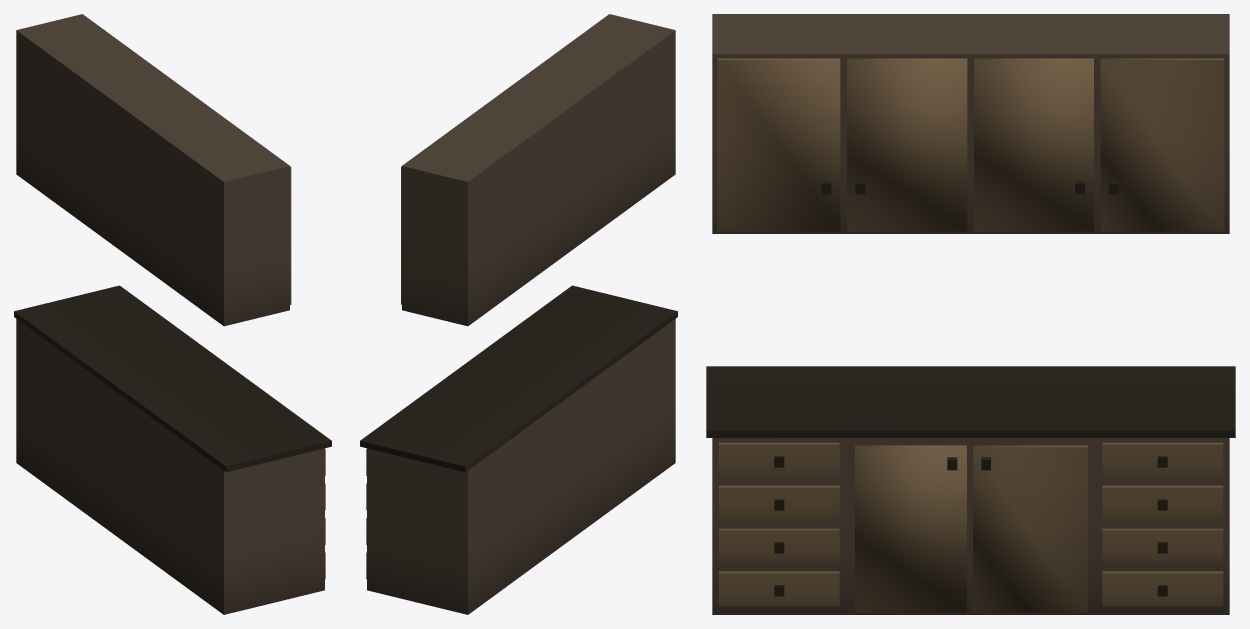
Rendered from SM_KitchenBar.fbx.
The picture shows the model from 3 angles, left to right: view 1: azimuth 30°, elevation 25°; view 2: azimuth 150°, elevation 25°; view 3: azimuth 270°, elevation 25°; orthographic projection. The views are drawn at different scales.
Parts seen in each view (by area): view 1: armarioCocina, encimeraCocina.001, encimeraCocina; view 2: armarioCocina, encimeraCocina.001, encimeraCocina; view 3: armarioCocina.001, encimeraCocina, encimeraCocina.008, encimeraCocina.002, armarioCocina, encimeraCocina.001, encimeraCocina.004.
Boxes of the visible parts, <box> form: armarioCocina: <box>16,14,289,326</box>; encimeraCocina.001: <box>16,319,324,614</box>; encimeraCocina: <box>14,285,331,472</box>; armarioCocina: <box>402,14,675,326</box>; encimeraCocina.001: <box>367,319,675,614</box>; encimeraCocina: <box>360,285,677,472</box>; armarioCocina.001: <box>717,58,1224,231</box>; encimeraCocina: <box>706,366,1235,437</box>; encimeraCocina.008: <box>855,445,1087,612</box>; encimeraCocina.002: <box>718,442,1223,606</box>; armarioCocina: <box>712,14,1229,233</box>; encimeraCocina.001: <box>712,438,1229,614</box>; encimeraCocina.004: <box>774,456,1167,596</box>.
Bounding box in the file's own units: 71.38 × 271 × 241.
